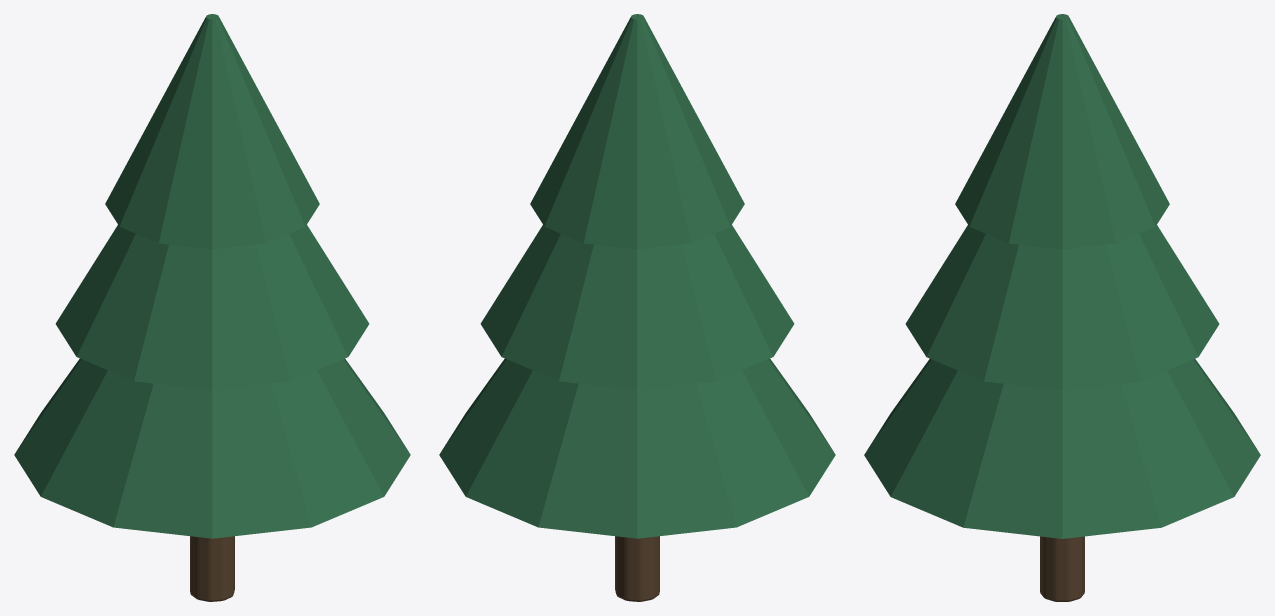
The model's file is PineTree_A.fbx.
3 views of the same model, side by side, from view 1: azimuth 30°, elevation 25°; view 2: azimuth 150°, elevation 25°; view 3: azimuth 270°, elevation 25° (orthographic).
Visible parts, largest first — view 1: Pine Crown Lower, Pine Crown Middle, Pine Crown Upper, Pine Trunk; view 2: Pine Crown Lower, Pine Crown Middle, Pine Crown Upper, Pine Trunk; view 3: Pine Crown Lower, Pine Crown Middle, Pine Crown Upper, Pine Trunk.
Boxes of the visible parts, box(x1,y1,x2,y2) form: Pine Crown Lower: box(14, 358, 410, 538); Pine Crown Middle: box(55, 225, 369, 390); Pine Crown Upper: box(105, 14, 319, 249); Pine Trunk: box(190, 536, 234, 601); Pine Crown Lower: box(439, 358, 835, 538); Pine Crown Middle: box(480, 225, 794, 390); Pine Crown Upper: box(530, 14, 744, 249); Pine Trunk: box(615, 536, 659, 601); Pine Crown Lower: box(864, 359, 1260, 538); Pine Crown Middle: box(905, 225, 1219, 390); Pine Crown Upper: box(955, 14, 1169, 249); Pine Trunk: box(1040, 536, 1084, 601).
Size of the model in its own units: 4.8 by 7.7 by 4.8.
